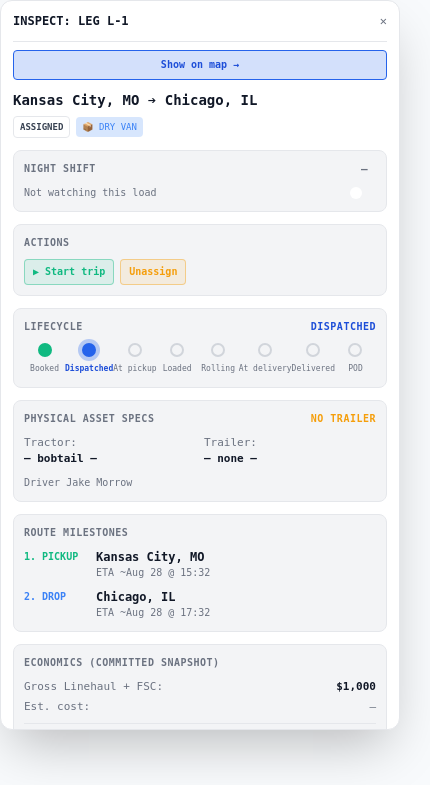
MasterDrawer › lifecycle actions › Start trip posts the status change through the store; a refused one surfaces the server message, never a silent click
Click the button with test id "action-start": (69, 272) [24,259,114,285]
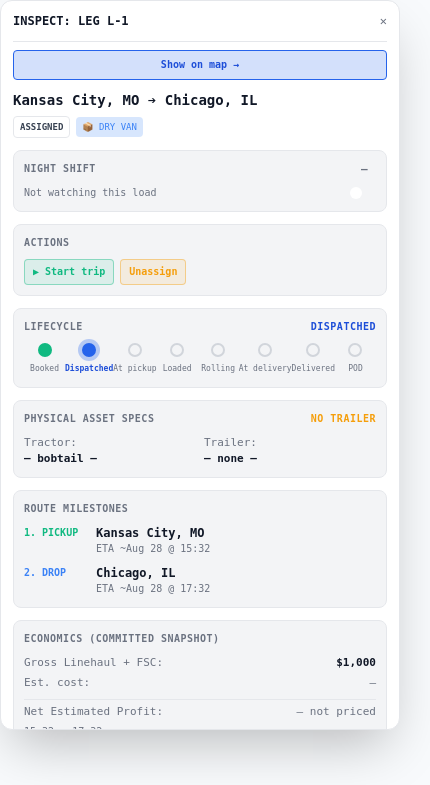
Click the button with test id "action-start": (69, 272) [24,259,114,285]
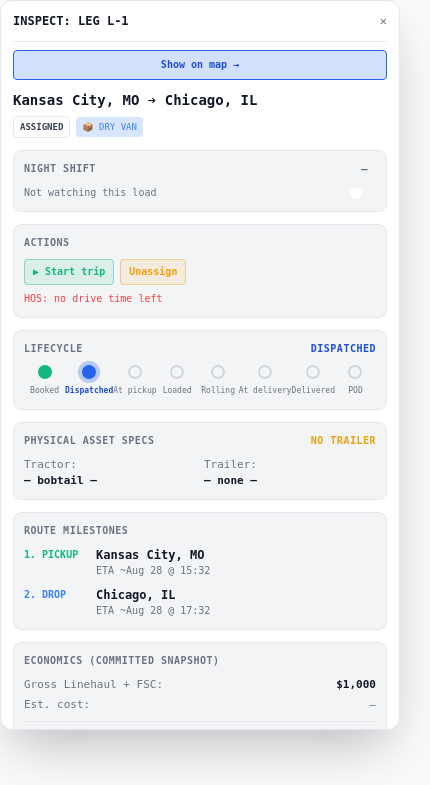
Expected: the text with test id "action-error" reads "HOS: no drive time left", [24,293,162,304]
